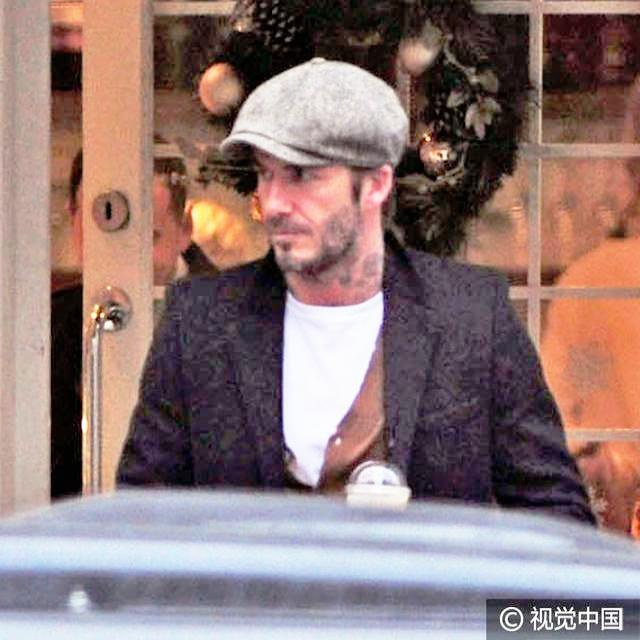TOPI: (220, 54, 410, 174)
